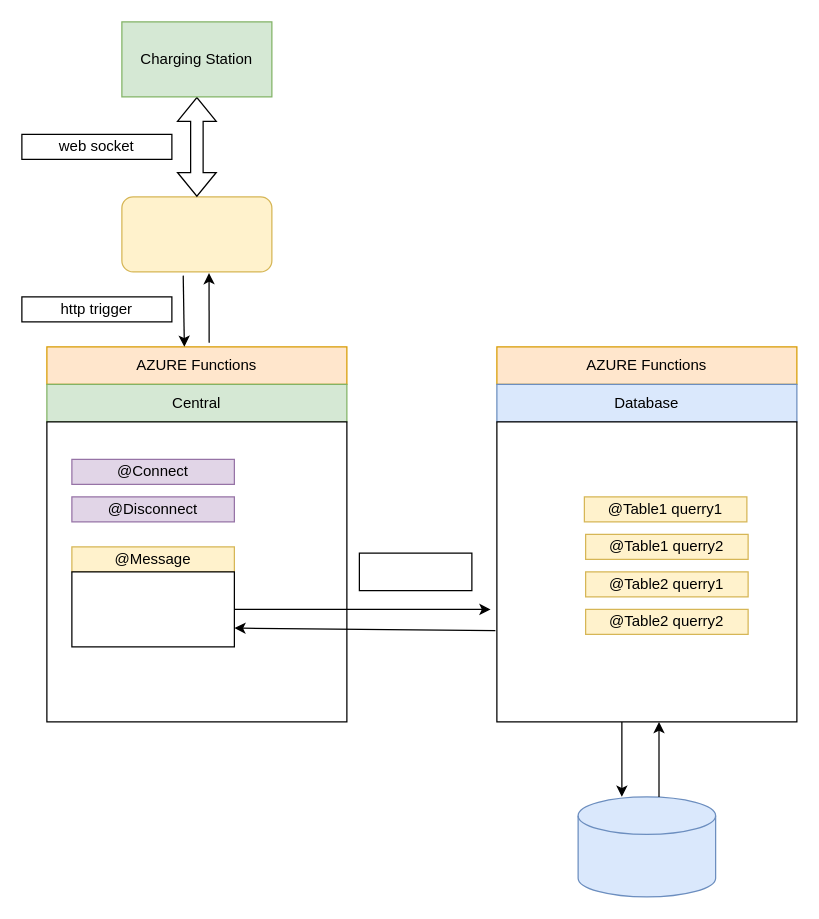
Image size: 819x919. Some labels were removed from this diagram. Each missing label, with the centre of its shape:
"DB" belongs at point 646,846.
"handle message" belongs at point 152,609.
"http request" belongs at point 415,571.
"Pub Sub" belongs at point 196,234.
